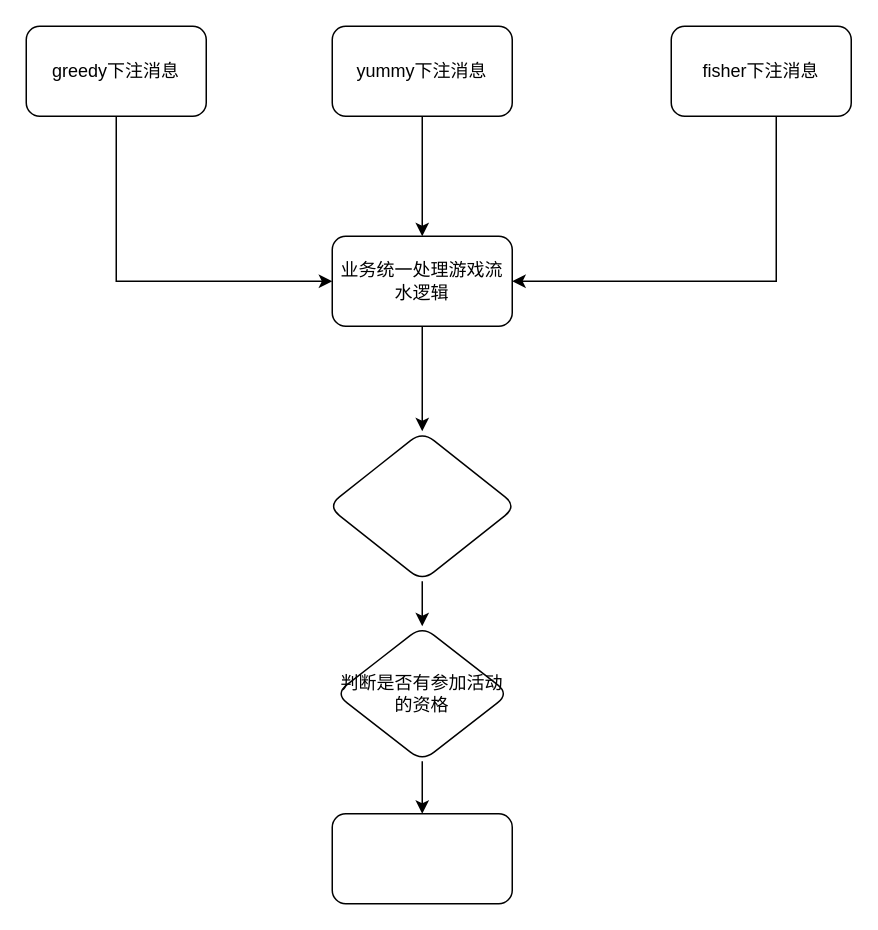
The diagram is 878 pixels wide and 930 high, and some of its shapes have lost their labels. Each missing label, with the box of its shape:
任务逻辑：被邀请人任务/邀请人任务/下注任务......: (331, 812, 512, 904)
判断数据是否合法数据（是否免费下注、是否中jackpot.....）: (326, 430, 517, 581)
